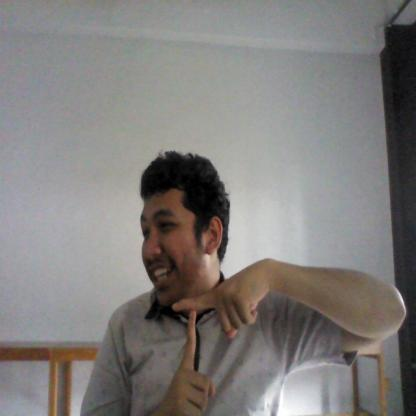T: (166, 258, 272, 416)
